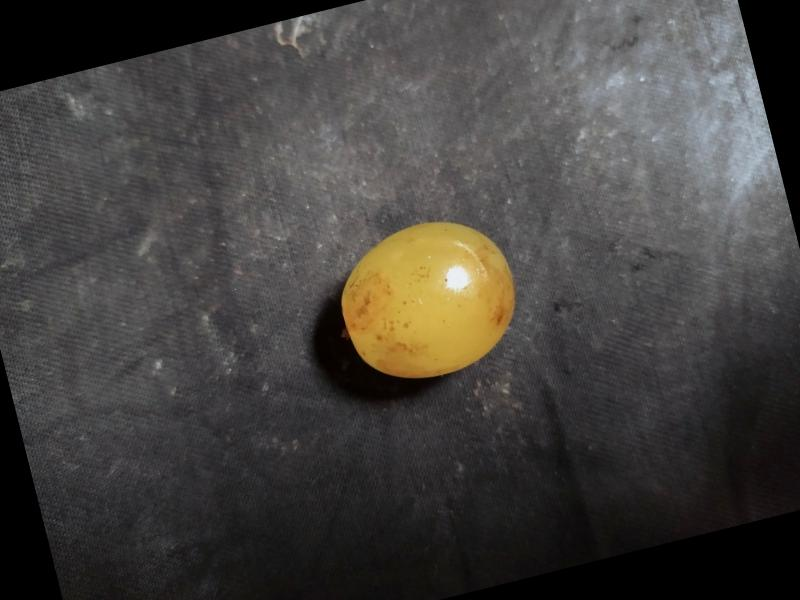Grape Rotten: (320, 199, 534, 398)
